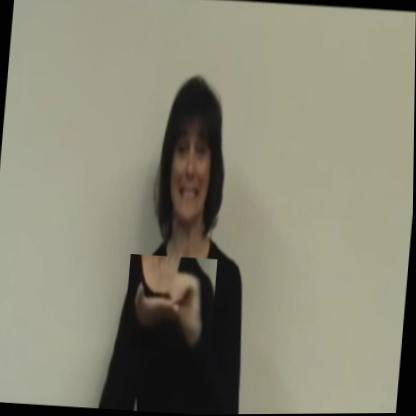ExcuseMe: (124, 254, 218, 354)
